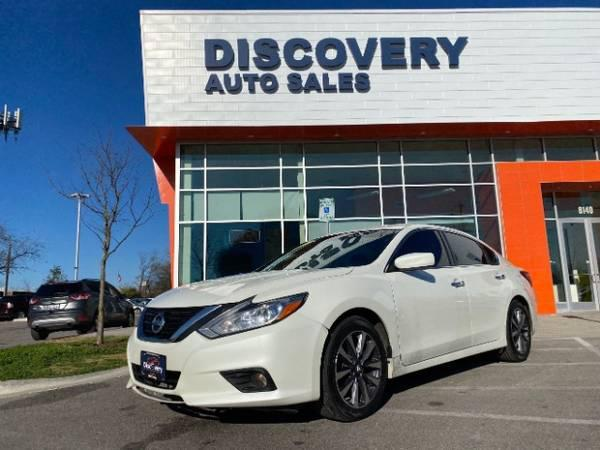Front_Bumper: (127, 311, 329, 408)
Front_Fender: (250, 263, 399, 380)
Front_Left_Door: (388, 266, 473, 375)
Front_Left_Window: (387, 229, 454, 275)
Front_Windshield: (263, 227, 401, 270)
Grille: (137, 303, 232, 342)
Hood: (147, 267, 354, 307)
Left_Headlight: (189, 296, 305, 345)
Rear_Fender: (500, 264, 536, 315)
Rear_Left_Door: (458, 267, 514, 356)
Rear_Left_Window: (443, 231, 501, 271)
Roof: (372, 225, 504, 271)
Wheel: (323, 320, 390, 420), (507, 302, 533, 360)
